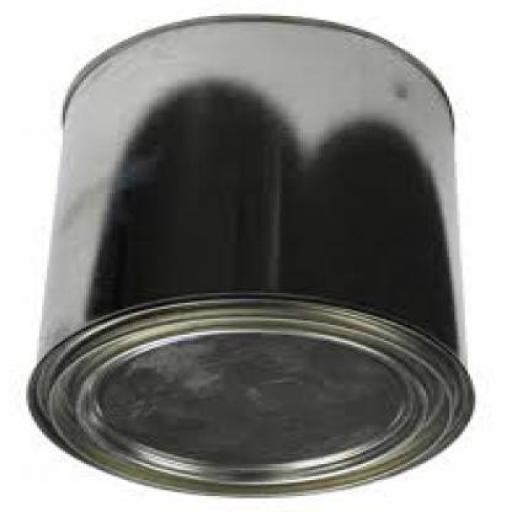metal: (26, 16, 481, 500)
